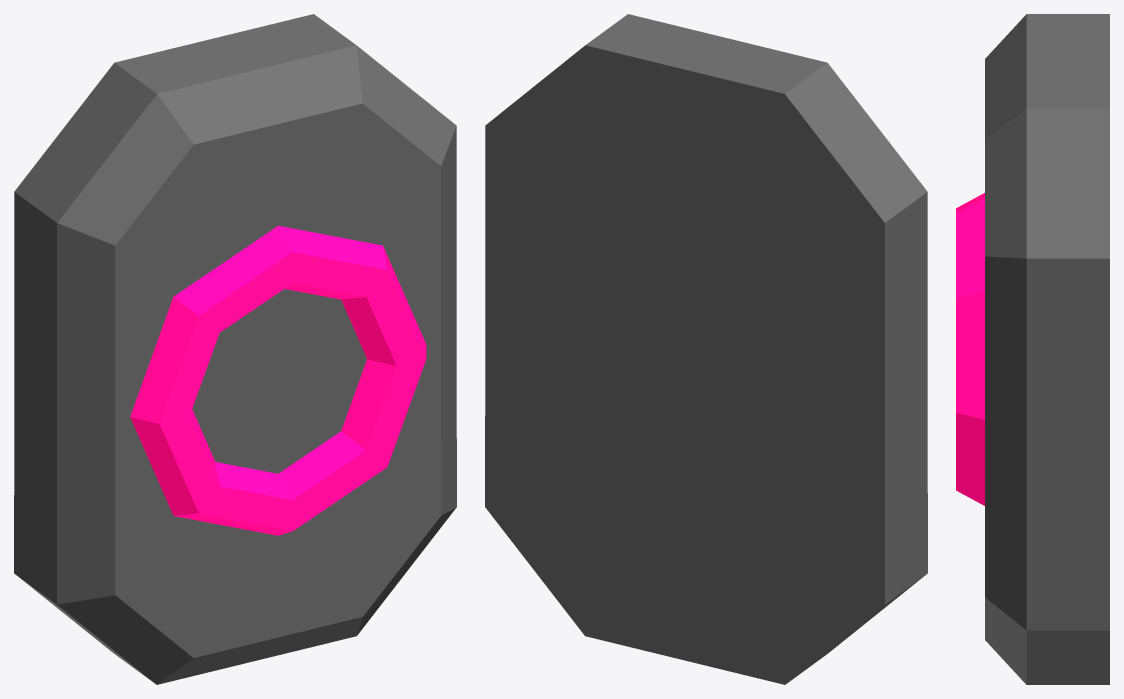
The model's file is Circle Key.glb.
3 renders of one model, left to right at view 1: azimuth 30°, elevation 25°; view 2: azimuth 150°, elevation 25°; view 3: azimuth 270°, elevation 25°, orthographic. The views are drawn at different scales.
Parts seen in each view (by area): view 1: Oblisk Key Circle; view 2: Oblisk Key Circle; view 3: Oblisk Key Circle.
Part boxes in pixels (x1,y1,x2,y2): Oblisk Key Circle: (14, 14, 456, 684); Oblisk Key Circle: (485, 14, 927, 684); Oblisk Key Circle: (956, 14, 1109, 684).
Size of the model in its own units: 0.5399 by 0.7622 by 0.1847.
